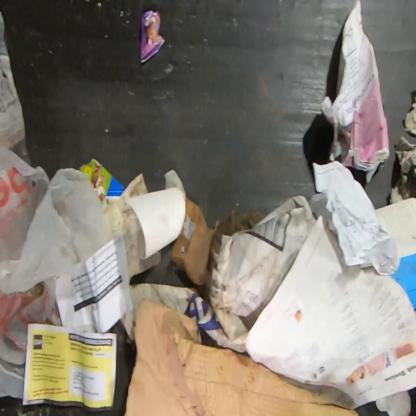cardboard: (122, 295, 362, 415), (170, 193, 220, 287)
soft_plastic: (0, 142, 113, 352), (139, 8, 166, 64)
